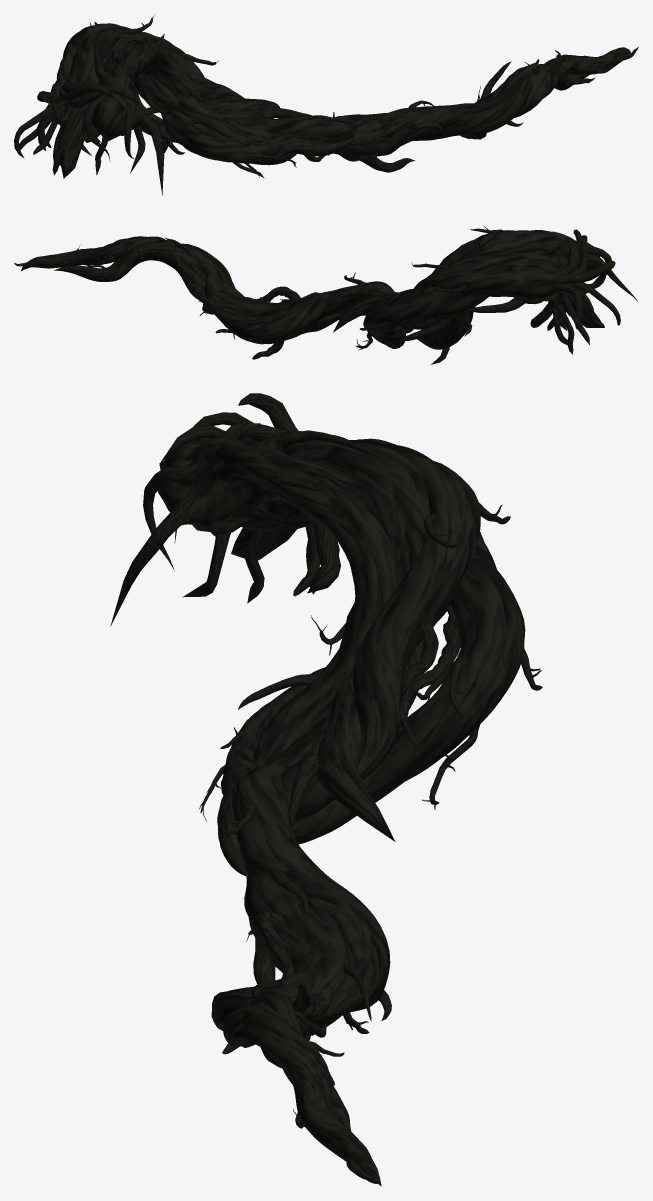
3 views of the same model, one above another, from view 1: azimuth 30°, elevation 25°; view 2: azimuth 150°, elevation 25°; view 3: azimuth 270°, elevation 25° (orthographic). The views are drawn at different scales.
Visible parts, largest first — view 1: SM_SwampVines_Combined_02_LOD0; view 2: SM_SwampVines_Combined_02_LOD0; view 3: SM_SwampVines_Combined_02_LOD0.
Part boxes in pixels (x1=…): SM_SwampVines_Combined_02_LOD0: x1=14, y1=15, x2=638, y2=195; SM_SwampVines_Combined_02_LOD0: x1=14, y1=225, x2=637, y2=364; SM_SwampVines_Combined_02_LOD0: x1=110, y1=393, x2=542, y2=1186.
Size of the model in its own units: 46.16 by 12.71 by 14.8.
Materials: 1 (1 with a texture image).
